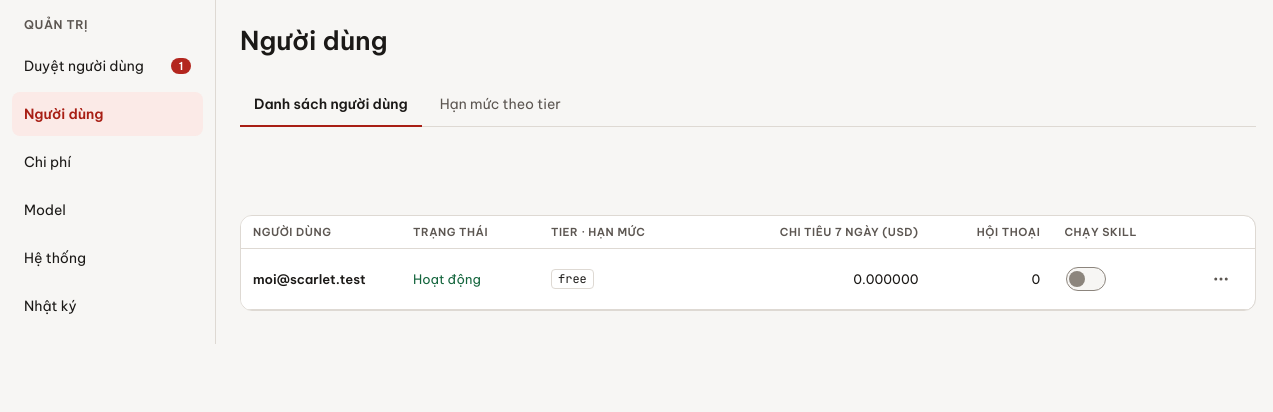
Test: Nguoi dung › KHONG ve cong tac `is_default` (Cam bay ③ / B-152)
# Ban v2 muc 1c: bang tier la TAB thu hai cua man Nguoi dung.
Click the tab "Hạn mức theo tier".
click(500, 104)  # box [426,82,575,126]
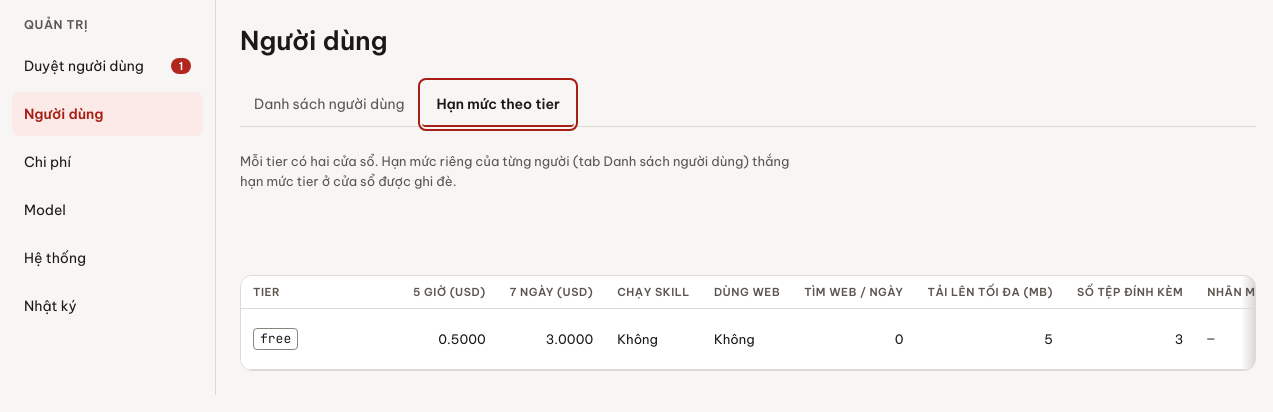
Now the element named "Hạn mức theo tier" is shown, box [240,275,1256,371]
